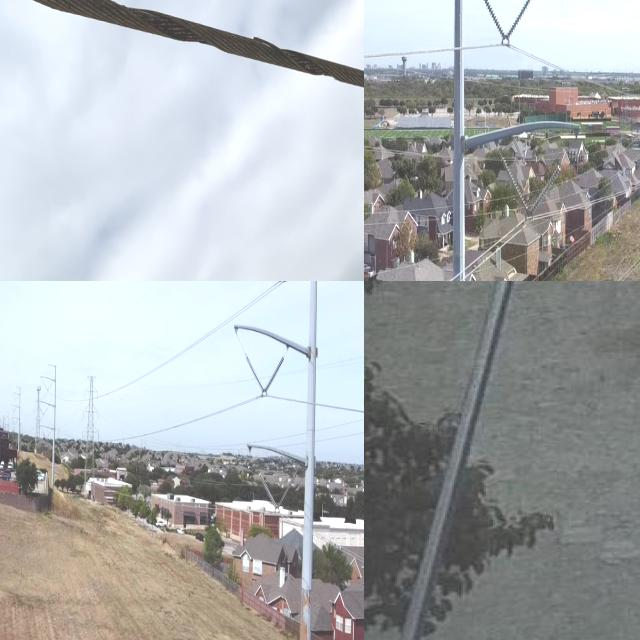杆塔: (80, 361, 106, 493)
正常电缆: (384, 281, 536, 640)
正常绝缘子: (523, 156, 567, 221), (498, 146, 533, 220), (498, 0, 534, 52), (480, 0, 510, 48), (273, 469, 299, 513), (257, 469, 281, 515), (262, 354, 286, 396), (244, 353, 266, 395)
电缆破损: (0, 0, 364, 99)
